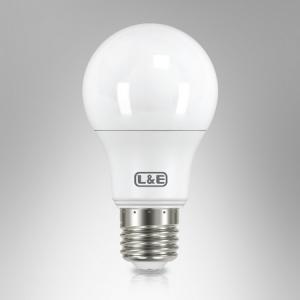Light_bulb: (79, 21, 226, 279)
